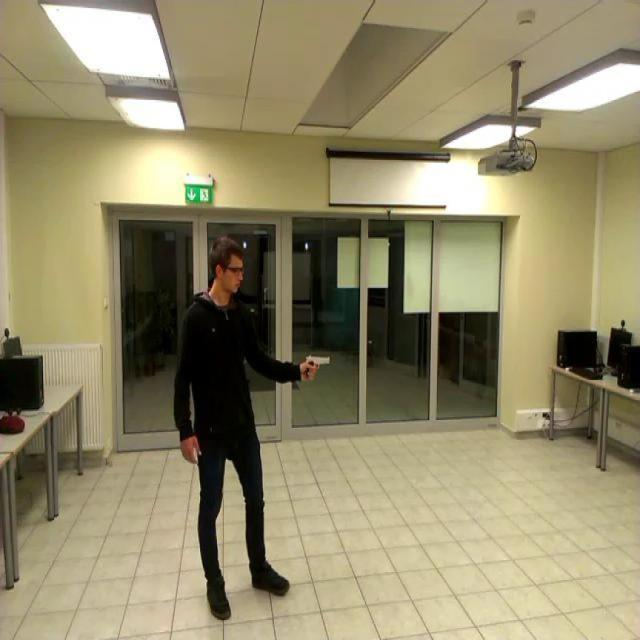pistol: (306, 353, 331, 378)
